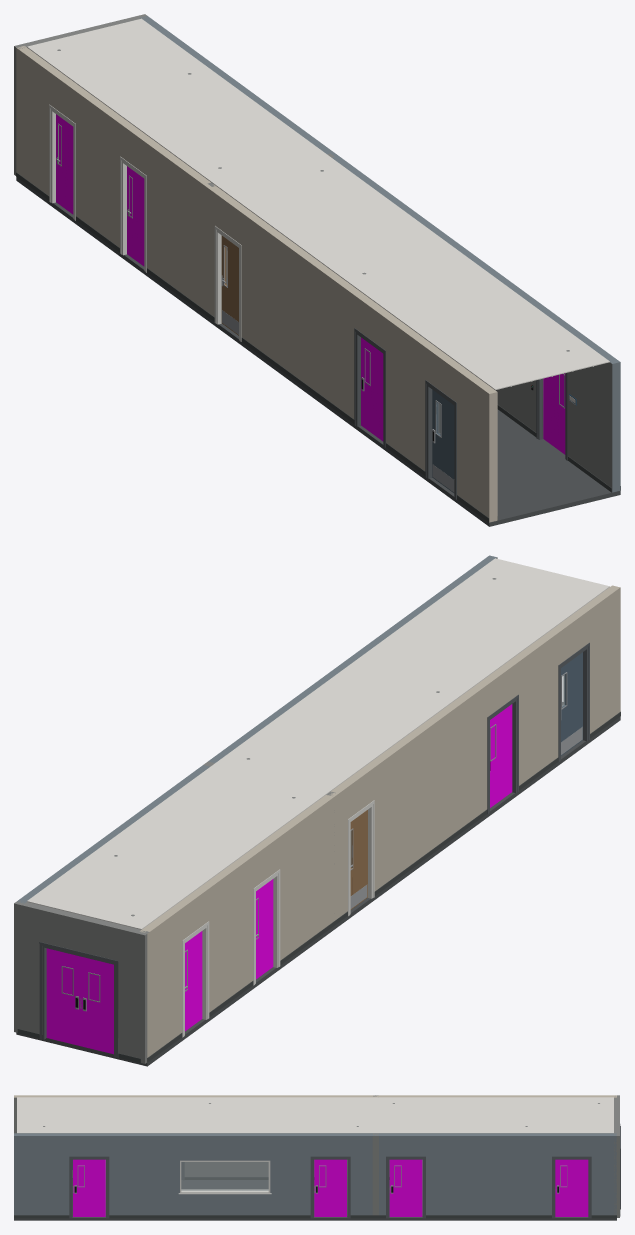
File: ENV_SecurityCorridor_20m.glb
3 renders of one model, top to bottom at view 1: azimuth 30°, elevation 25°; view 2: azimuth 150°, elevation 25°; view 3: azimuth 270°, elevation 25°, orthographic. The views are drawn at different scales.
Visible parts, largest first — view 1: ENV_SecurityCorridor_20m_Architecture, ENV_SecurityCorridor_20m_Ceiling, DOOR_Secure_Single_1200_Leaf, DOOR_Secure_Single_1200_Leaf_COL-colonly.001, DOOR_Secure_Single_1200_Leaf_COL-colonly.002, DOOR_Interior_Single_1000_Leaf, DOOR_Interior_Single_1000_Leaf_COL-colonly.001, DOOR_Interior_Single_1000_Leaf_COL-colonly.002, DOOR_Secure_Single_1200_Frame, DOOR_Interior_Single_1000_Frame, DOOR_Secure_Single_1200_Frame.001, DOOR_Interior_Single_1000_Frame.002 (+2 smaller); view 2: ENV_SecurityCorridor_20m_Architecture, ENV_SecurityCorridor_20m_Ceiling, ENV_SecurityCorridor_20m_CrossWalls, DOOR_Secure_Double_1800_Leaf_R_COL-colonly.001, DOOR_Secure_Double_1800_Leaf_L_COL-colonly.001, DOOR_Secure_Single_1200_Leaf_COL-colonly.001, DOOR_Secure_Single_1200_Leaf, DOOR_Secure_Double_1800_Frame.001, DOOR_Interior_Single_1000_Leaf, DOOR_Interior_Single_1000_Leaf_COL-colonly.001, DOOR_Interior_Single_1000_Leaf_COL-colonly.002, DOOR_Interior_Single_1000_Frame.002 (+4 smaller); view 3: ENV_SecurityCorridor_20m_Architecture, ENV_SecurityCorridor_20m_Ceiling, DOOR_Secure_Single_1200_Leaf_COL-colonly.005, DOOR_Secure_Single_1200_Leaf_COL-colonly.004, DOOR_Secure_Single_1200_Leaf_COL-colonly.002, DOOR_Secure_Single_1200_Leaf_COL-colonly.003, ENV_SecurityCorridor_20m_CrossWalls, DOOR_Secure_Single_1200_Frame.002, DOOR_Secure_Single_1200_Frame.003, DOOR_Secure_Single_1200_Frame.005, DOOR_Secure_Single_1200_Frame.004.
Boxes of the visible parts, left/top/right/bottom form: ENV_SecurityCorridor_20m_Architecture: left=16, top=16, right=620, bottom=526; ENV_SecurityCorridor_20m_Ceiling: left=27, top=18, right=609, bottom=390; DOOR_Secure_Single_1200_Leaf: left=432, top=390, right=454, bottom=493; DOOR_Secure_Single_1200_Leaf_COL-colonly.001: left=361, top=337, right=383, bottom=441; DOOR_Secure_Single_1200_Leaf_COL-colonly.002: left=543, top=373, right=565, bottom=454; DOOR_Interior_Single_1000_Leaf: left=221, top=235, right=238, bottom=335; DOOR_Interior_Single_1000_Leaf_COL-colonly.001: left=127, top=166, right=144, bottom=266; DOOR_Interior_Single_1000_Leaf_COL-colonly.002: left=56, top=114, right=73, bottom=214; DOOR_Secure_Single_1200_Frame: left=425, top=380, right=456, bottom=499; DOOR_Interior_Single_1000_Frame: left=214, top=226, right=241, bottom=341; DOOR_Secure_Single_1200_Frame.001: left=354, top=328, right=385, bottom=447; DOOR_Interior_Single_1000_Frame.002: left=49, top=104, right=75, bottom=220; ENV_SecurityCorridor_20m_Architecture: left=16, top=555, right=620, bottom=1066; ENV_SecurityCorridor_20m_Ceiling: left=27, top=558, right=609, bottom=929; ENV_SecurityCorridor_20m_CrossWalls: left=14, top=761, right=335, bottom=1063; DOOR_Secure_Double_1800_Leaf_R_COL-colonly.001: left=46, top=948, right=81, bottom=1046; DOOR_Secure_Double_1800_Leaf_L_COL-colonly.001: left=81, top=957, right=113, bottom=1054; DOOR_Secure_Single_1200_Leaf_COL-colonly.001: left=490, top=704, right=512, bottom=807; DOOR_Secure_Single_1200_Leaf: left=561, top=652, right=582, bottom=755; DOOR_Secure_Double_1800_Frame.001: left=39, top=942, right=118, bottom=1057; DOOR_Interior_Single_1000_Leaf: left=350, top=810, right=367, bottom=909; DOOR_Interior_Single_1000_Leaf_COL-colonly.001: left=256, top=879, right=273, bottom=979; DOOR_Interior_Single_1000_Leaf_COL-colonly.002: left=185, top=931, right=202, bottom=1031; DOOR_Interior_Single_1000_Frame.002: left=182, top=921, right=209, bottom=1037; ENV_SecurityCorridor_20m_Architecture: left=14, top=1095, right=616, bottom=1220; ENV_SecurityCorridor_20m_Ceiling: left=17, top=1097, right=613, bottom=1133; DOOR_Secure_Single_1200_Leaf_COL-colonly.005: left=555, top=1159, right=588, bottom=1216; DOOR_Secure_Single_1200_Leaf_COL-colonly.004: left=389, top=1159, right=422, bottom=1216; DOOR_Secure_Single_1200_Leaf_COL-colonly.002: left=73, top=1159, right=105, bottom=1216; DOOR_Secure_Single_1200_Leaf_COL-colonly.003: left=314, top=1159, right=346, bottom=1216; ENV_SecurityCorridor_20m_CrossWalls: left=372, top=1095, right=620, bottom=1217; DOOR_Secure_Single_1200_Frame.002: left=69, top=1156, right=109, bottom=1218; DOOR_Secure_Single_1200_Frame.003: left=310, top=1156, right=350, bottom=1218; DOOR_Secure_Single_1200_Frame.005: left=552, top=1156, right=591, bottom=1218; DOOR_Secure_Single_1200_Frame.004: left=386, top=1156, right=425, bottom=1218.
Size of what is drawn, in the model's own units: 3.27 by 3.13 by 20.13.
